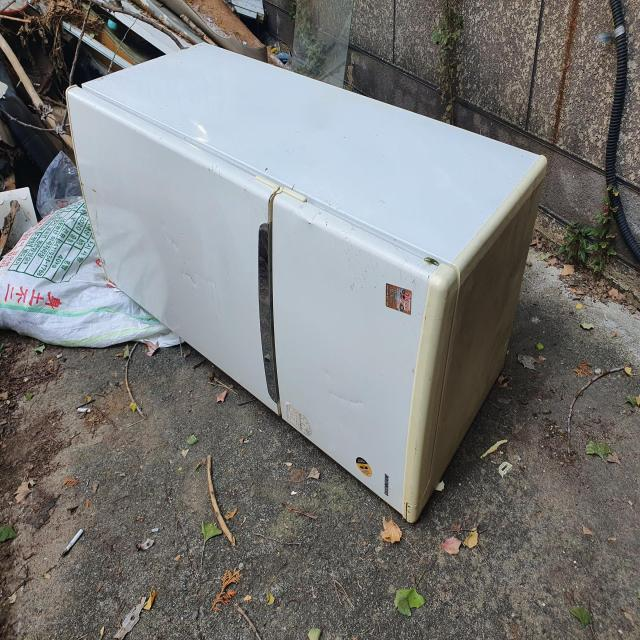refrigerator: (65, 39, 548, 525)
